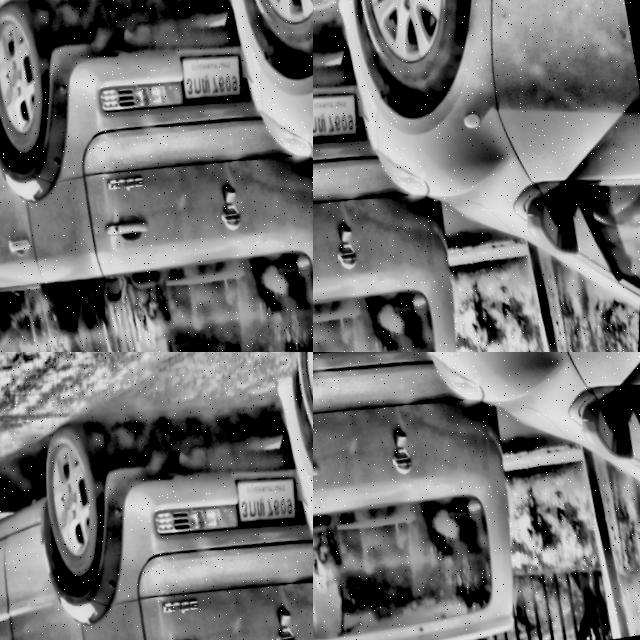license-plate: (32, 307, 69, 337), (162, 324, 171, 336), (140, 332, 146, 343)
